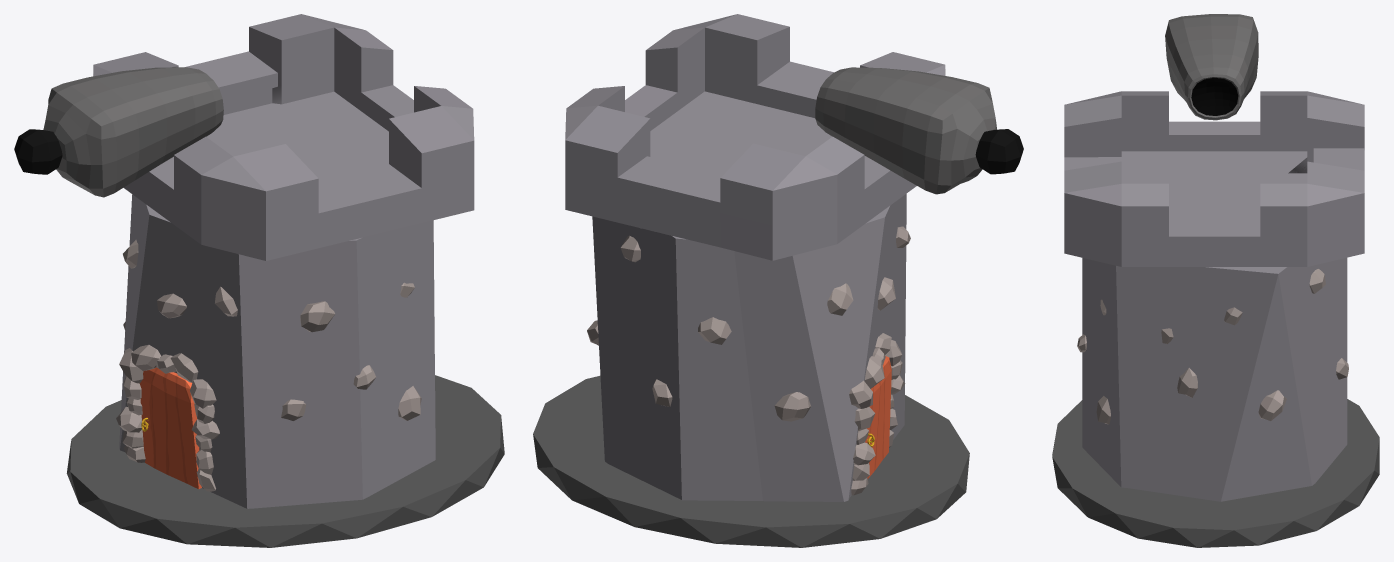
Rendered from Tower.fbx.
3 renders of one model, left to right at view 1: azimuth 30°, elevation 25°; view 2: azimuth 150°, elevation 25°; view 3: azimuth 270°, elevation 25°, orthographic. The views are drawn at different scales.
Parts seen in each view (by area): view 1: Tower башная, Основание башни, Cannon, Дверь башни, Камеи вокруг башни, Kernel; view 2: Tower башная, Основание башни, Cannon, Камеи вокруг башни, Kernel, Дверь башни; view 3: Tower башная, Основание башни, Cannon, Камеи вокруг башни.
Boxes of the visible parts, x1,y1,x2,y2 form: Tower башная: [93, 14, 474, 508]; Основание башни: [66, 375, 504, 547]; Cannon: [43, 67, 223, 197]; Дверь башни: [139, 367, 201, 489]; Камеи вокруг башни: [123, 239, 421, 420]; Kernel: [14, 129, 62, 174]; Tower башная: [565, 14, 945, 501]; Основание башни: [533, 376, 969, 547]; Cannon: [815, 67, 996, 194]; Камеи вокруг башни: [587, 226, 910, 421]; Kernel: [975, 129, 1023, 174]; Дверь башни: [865, 356, 891, 478]; Tower башная: [1064, 91, 1364, 501]; Основание башни: [1052, 399, 1379, 547]; Cannon: [1165, 14, 1258, 120]; Камеи вокруг башни: [1077, 269, 1348, 424].
Size of the model in its own units: 356 by 307 by 250.
